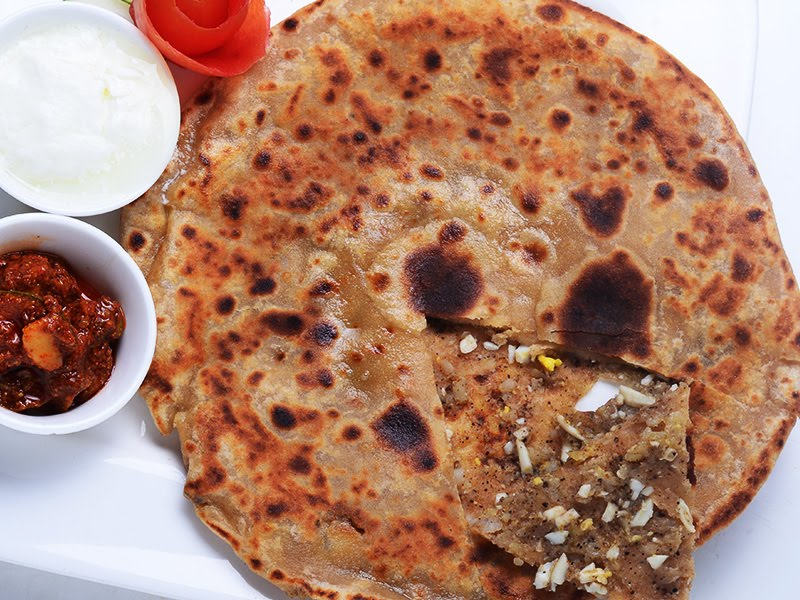aloo_paratha: (126, 2, 797, 600)
